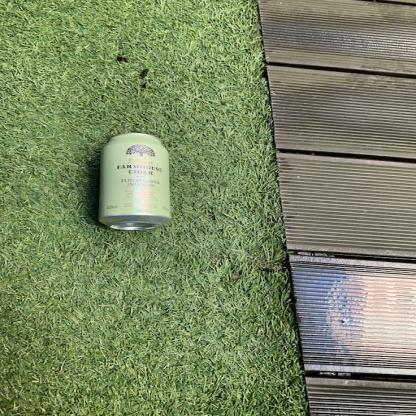trash: (96, 132, 177, 232)
